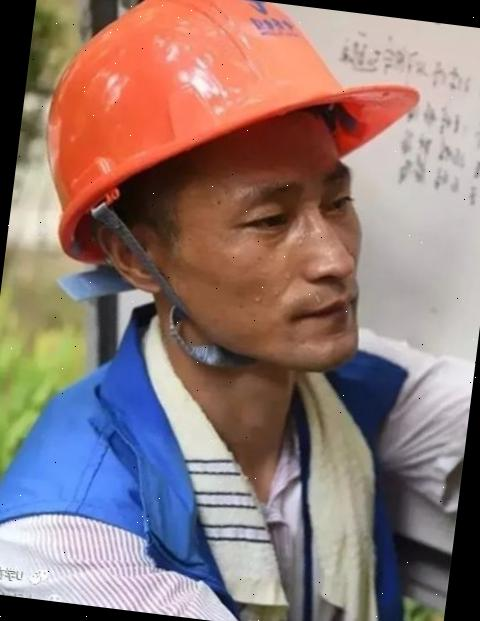helmet: (23, 0, 437, 300)
